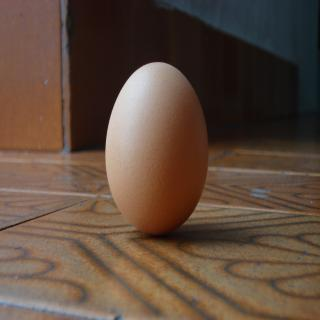Egg: (106, 62, 208, 234)
